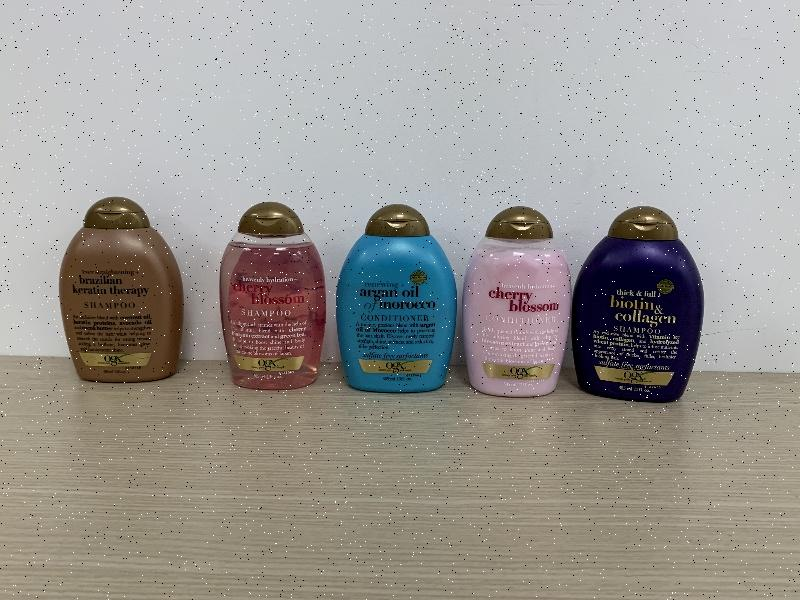ArganOilOfMorocco_Conditioner: (336, 204, 457, 393)
BiotinCollagen_Shampoo: (571, 206, 705, 404)
BrazilianKeratinTherapy_Shampoo: (59, 196, 184, 383)
CherryBlossom_Conditioner: (462, 206, 572, 398)
CherryBlossom_Shampoo: (219, 201, 326, 390)
